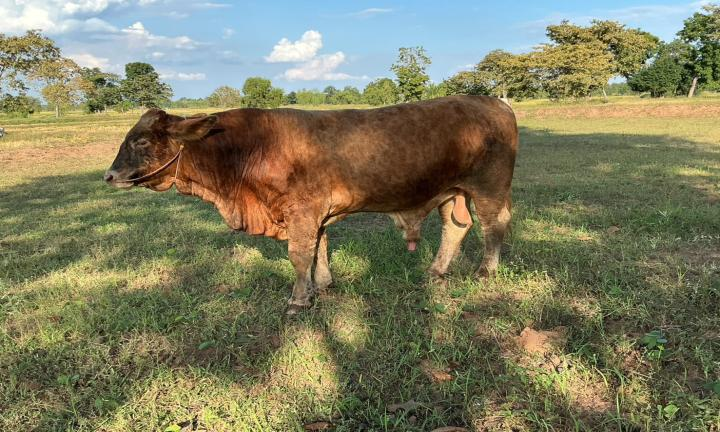Charolais: (105, 95, 518, 313)
